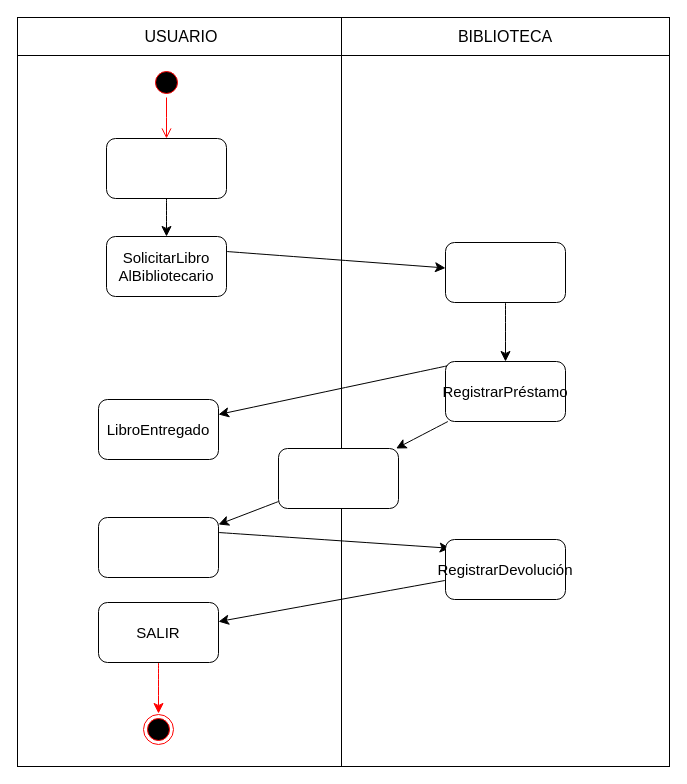
Some shapes in this 687 by 784 pixel diagram are drawn without their labels. The box of each missing label's shape, as (x1, y1, x2, y2) in pixels:
BuscarLibro DelCatálogo: (106, 138, 226, 198)
BuscarLibro EnEstanteria: (444, 242, 566, 302)
DevolverLibro: (98, 516, 218, 578)
ReciboyFecha DeDevolución: (278, 448, 398, 508)
